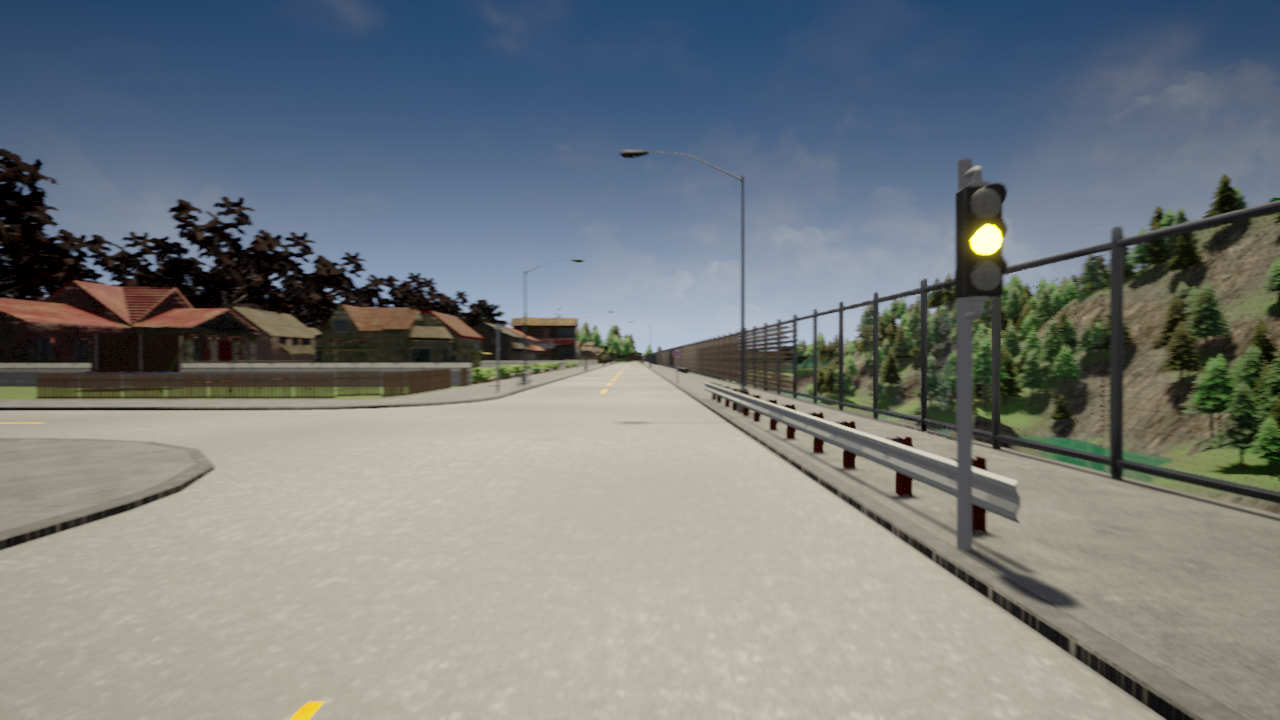yellow: (954, 183, 1006, 300)
